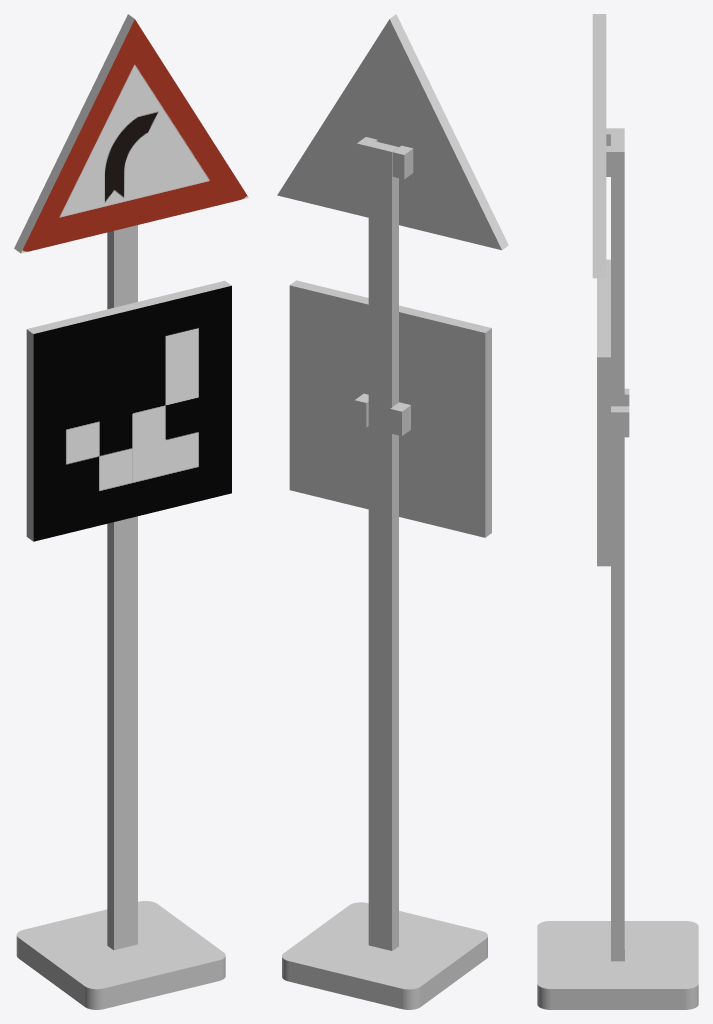
The model's file is peligr_izq_aruco.dae.
3 views of the same model, side by side, from view 1: azimuth 30°, elevation 25°; view 2: azimuth 150°, elevation 25°; view 3: azimuth 270°, elevation 25° (orthographic). The views are drawn at different scales.
Visible parts, largest first — view 1: a2a7f118-3664-41f8-a293-e276de75cac0, b89335ee-4480-4ac8-8471-a7171cb85544, ff02298c-121f-4227-ae3f-10d0138d73ea, a65e9c4c-367c-4a5a-8a6b-403731c5e4a0, a754b649-26cc-4cd9-9799-6824157dade6, a2f99faf-c384-4a39-8784-7891235d72fc, a24bf1b9-bc24-4ece-beaa-13ff56de25b7; view 2: a0f02634-4bc9-4be6-9964-4160fc4eef7b, ff02298c-121f-4227-ae3f-10d0138d73ea, eca2d72f-00f6-4c73-8c74-52f8a2c54d90, a65e9c4c-367c-4a5a-8a6b-403731c5e4a0, a754b649-26cc-4cd9-9799-6824157dade6, a2f99faf-c384-4a39-8784-7891235d72fc, a24bf1b9-bc24-4ece-beaa-13ff56de25b7, a2b0fb0a-78e2-49e4-85da-5494cc70c9f5, facea7ef-c32a-4090-b051-d09dee0cb58d; view 3: a65e9c4c-367c-4a5a-8a6b-403731c5e4a0, ff02298c-121f-4227-ae3f-10d0138d73ea, abc5a466-57b8-40ae-a268-4fab5540e44c, a56ce4b4-9864-451c-aa98-c9a34c247d14, a24bf1b9-bc24-4ece-beaa-13ff56de25b7, bdf98817-8f25-4bf3-a2c3-06ad51828a96, a04e2636-f3af-4e09-99b1-f91982e960b7.
Boxes of the visible parts, box(x1,y1,x2,y2) form: a2a7f118-3664-41f8-a293-e276de75cac0: box(33, 285, 231, 541); b89335ee-4480-4ac8-8471-a7171cb85544: box(23, 19, 246, 251); ff02298c-121f-4227-ae3f-10d0138d73ea: box(107, 225, 137, 950); a65e9c4c-367c-4a5a-8a6b-403731c5e4a0: box(16, 901, 225, 1009); a754b649-26cc-4cd9-9799-6824157dade6: box(14, 14, 134, 253); a2f99faf-c384-4a39-8784-7891235d72fc: box(26, 329, 33, 541); a24bf1b9-bc24-4ece-beaa-13ff56de25b7: box(27, 280, 231, 333); a0f02634-4bc9-4be6-9964-4160fc4eef7b: box(289, 285, 485, 537); ff02298c-121f-4227-ae3f-10d0138d73ea: box(368, 141, 398, 950); eca2d72f-00f6-4c73-8c74-52f8a2c54d90: box(277, 19, 501, 250); a65e9c4c-367c-4a5a-8a6b-403731c5e4a0: box(282, 902, 487, 1009); a754b649-26cc-4cd9-9799-6824157dade6: box(390, 14, 508, 249); a2f99faf-c384-4a39-8784-7891235d72fc: box(485, 328, 491, 537); a24bf1b9-bc24-4ece-beaa-13ff56de25b7: box(290, 280, 491, 332); a2b0fb0a-78e2-49e4-85da-5494cc70c9f5: box(392, 145, 413, 179); facea7ef-c32a-4090-b051-d09dee0cb58d: box(390, 402, 410, 436); a65e9c4c-367c-4a5a-8a6b-403731c5e4a0: box(537, 921, 698, 1009); ff02298c-121f-4227-ae3f-10d0138d73ea: box(611, 134, 624, 961); abc5a466-57b8-40ae-a268-4fab5540e44c: box(592, 14, 606, 278); a56ce4b4-9864-451c-aa98-c9a34c247d14: box(597, 357, 610, 566); a24bf1b9-bc24-4ece-beaa-13ff56de25b7: box(597, 259, 610, 357); bdf98817-8f25-4bf3-a2c3-06ad51828a96: box(611, 406, 629, 437); a04e2636-f3af-4e09-99b1-f91982e960b7: box(606, 146, 624, 176).
Size of the model in its own units: 0.0575 by 0.035 by 0.2302.
2 materials, 2 textured.
